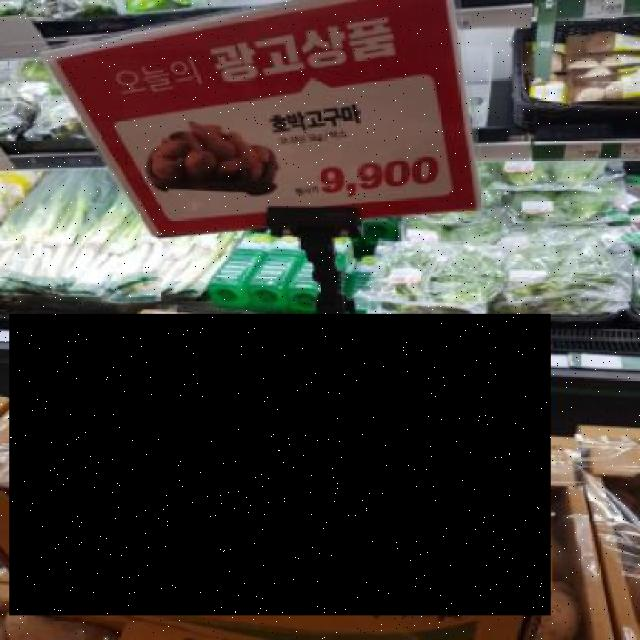Sweet_Potato: (9, 314, 551, 615)
